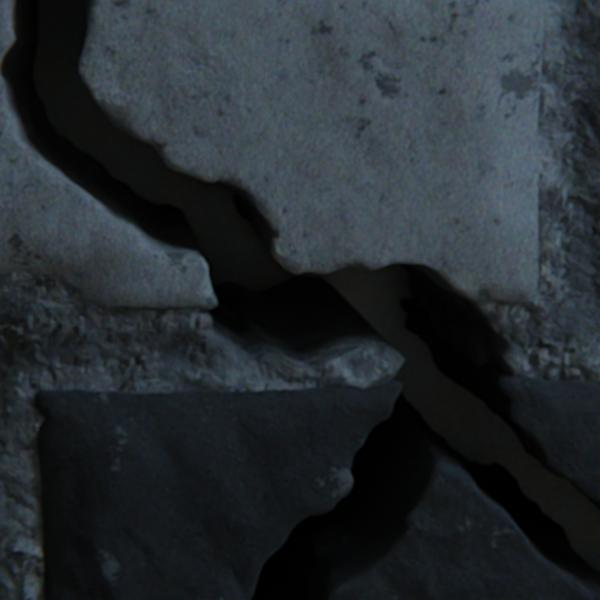broken_brick: (79, 0, 541, 302), (36, 381, 400, 599), (0, 75, 217, 309), (323, 457, 599, 599), (498, 375, 599, 500), (0, 0, 15, 65)
crack: (0, 0, 599, 599)
